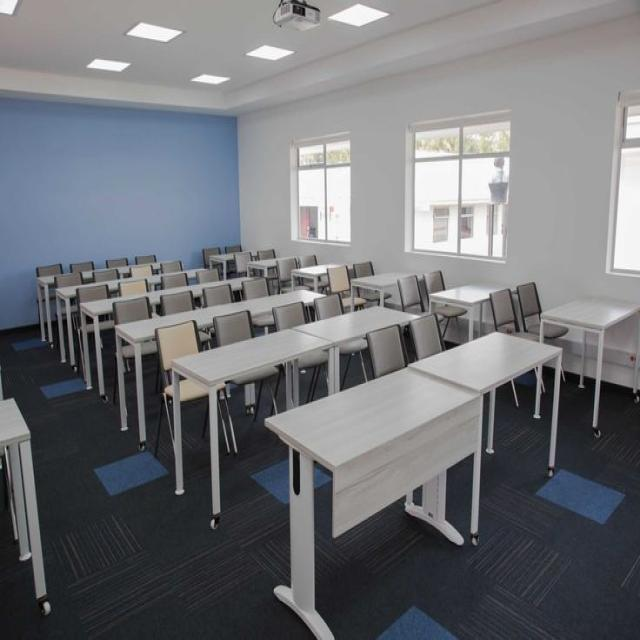obstacle: (264, 366, 482, 638), (406, 330, 564, 544), (176, 329, 320, 524), (538, 295, 639, 438), (0, 395, 50, 615)
